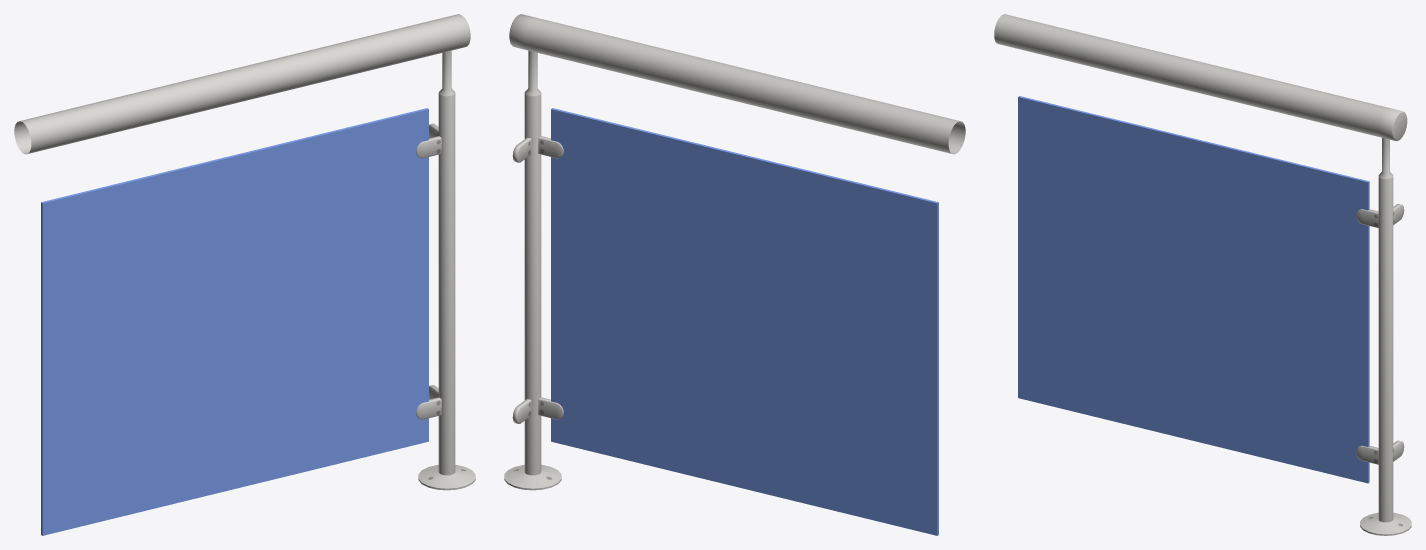
The model's file is Barrier01_4.FBX.
3 renders of one model, left to right at view 1: azimuth 30°, elevation 25°; view 2: azimuth 150°, elevation 25°; view 3: azimuth 330°, elevation 25°, orthographic. The views are drawn at different scales.
Parts seen in each view (by area): view 1: Glass, Metal; view 2: Glass, Metal; view 3: Glass, Metal.
Part boxes in pixels (bbox=[...]): Glass: bbox=[41, 108, 428, 535]; Metal: bbox=[14, 14, 475, 490]; Glass: bbox=[551, 108, 938, 535]; Metal: bbox=[504, 14, 965, 490]; Glass: bbox=[1018, 96, 1369, 483]; Metal: bbox=[994, 14, 1411, 535].
Bounding box in the file's own units: 106 × 103 × 13.3.
